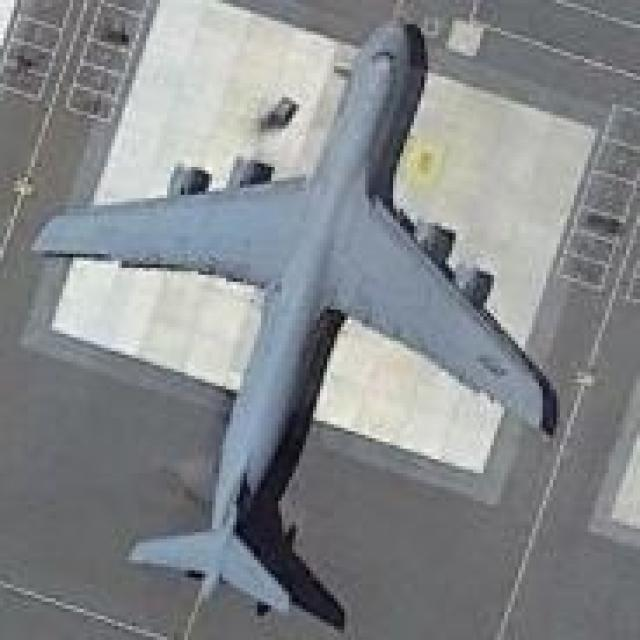C-5_TopDown: (26, 11, 565, 630)
